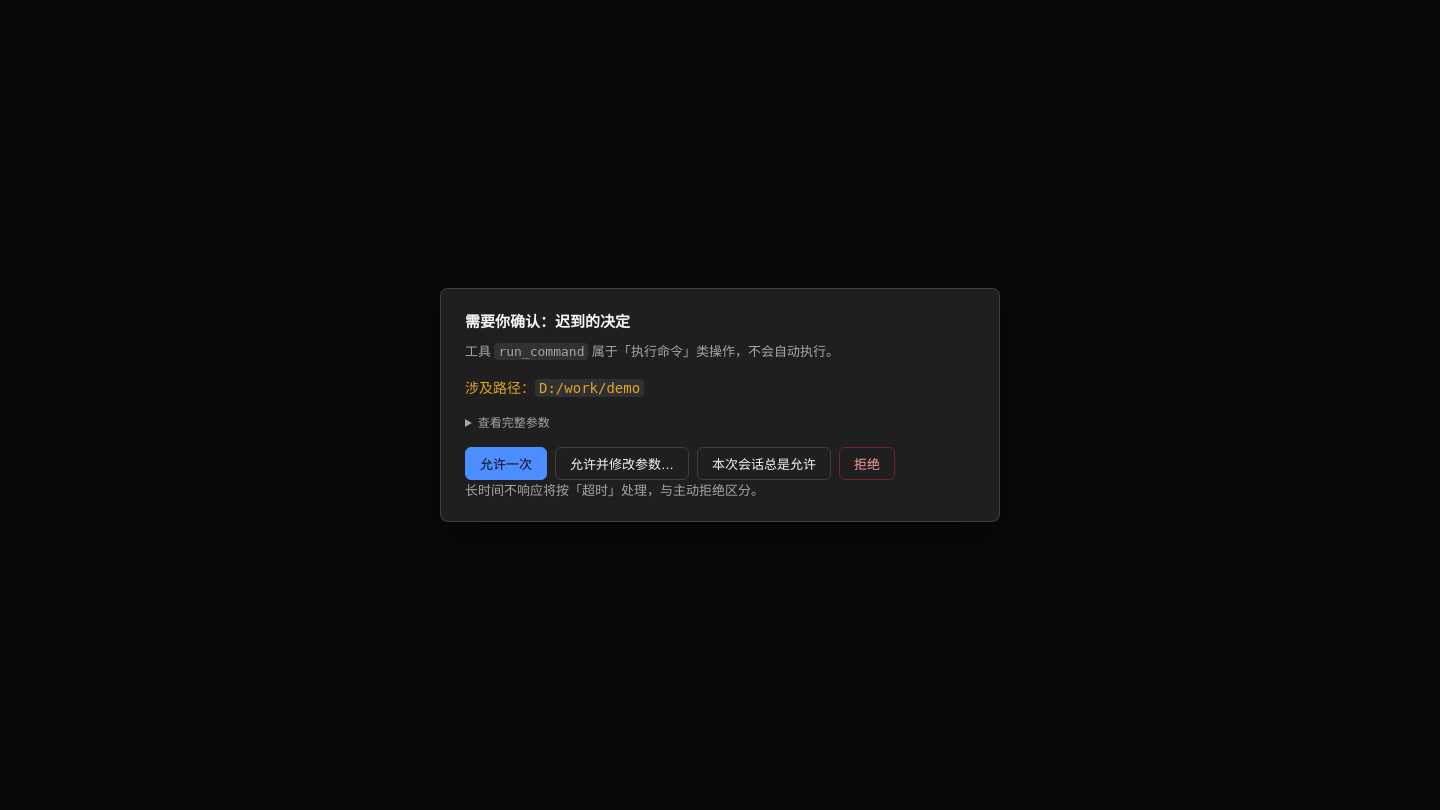
Test: 主进程说结束了，弹窗就关掉那一张（T9） › 回填时主进程说"这个请求已经不在" → 明说决定没生效
Click the button "允许一次".
click(506, 464)  # box [465,447,547,480]
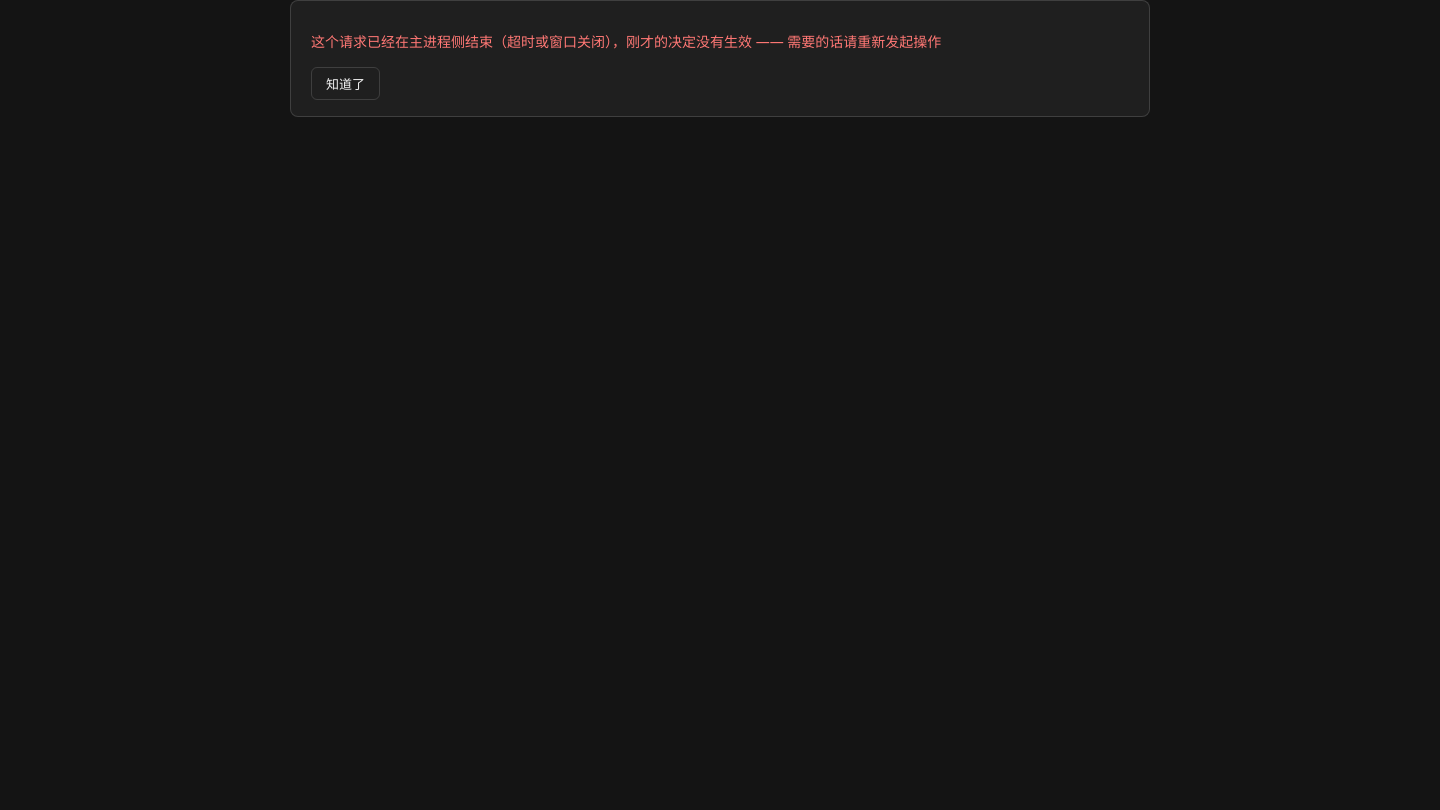
Result: the text "这个请求已经在主进程侧结束（超时或窗口关闭），刚才的决定没有生效 —— 需要的话请重新发起操作" is shown at [311,32,941,51]
